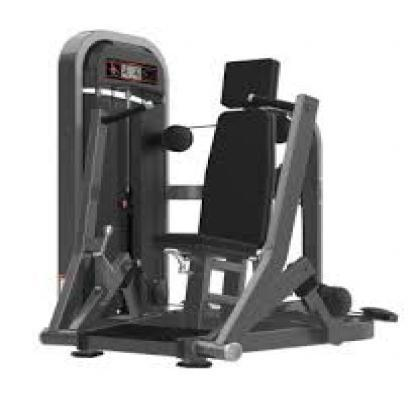Chest Press machine: (34, 17, 403, 378)
